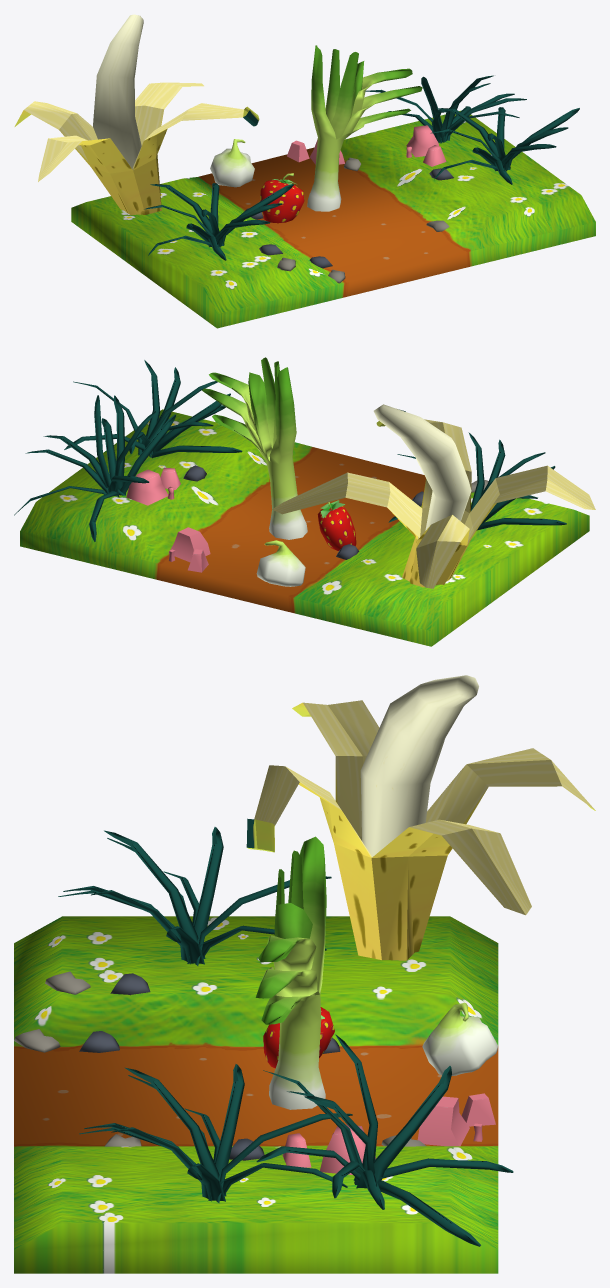
The model's file is D_block_03.FBX.
3 renders of one model, top to bottom at view 1: azimuth 30°, elevation 25°; view 2: azimuth 150°, elevation 25°; view 3: azimuth 270°, elevation 25°, orthographic. The views are drawn at different scales.
Visible parts, largest first — view 1: biomes_03; view 2: biomes_03; view 3: biomes_03.
Boxes of the visible parts, x1,y1,x2,y2 form: biomes_03: (14,14,595,328); biomes_03: (14,357,595,646); biomes_03: (14,675,595,1273).
Size of the model in its own units: 1216 by 457 by 721.
